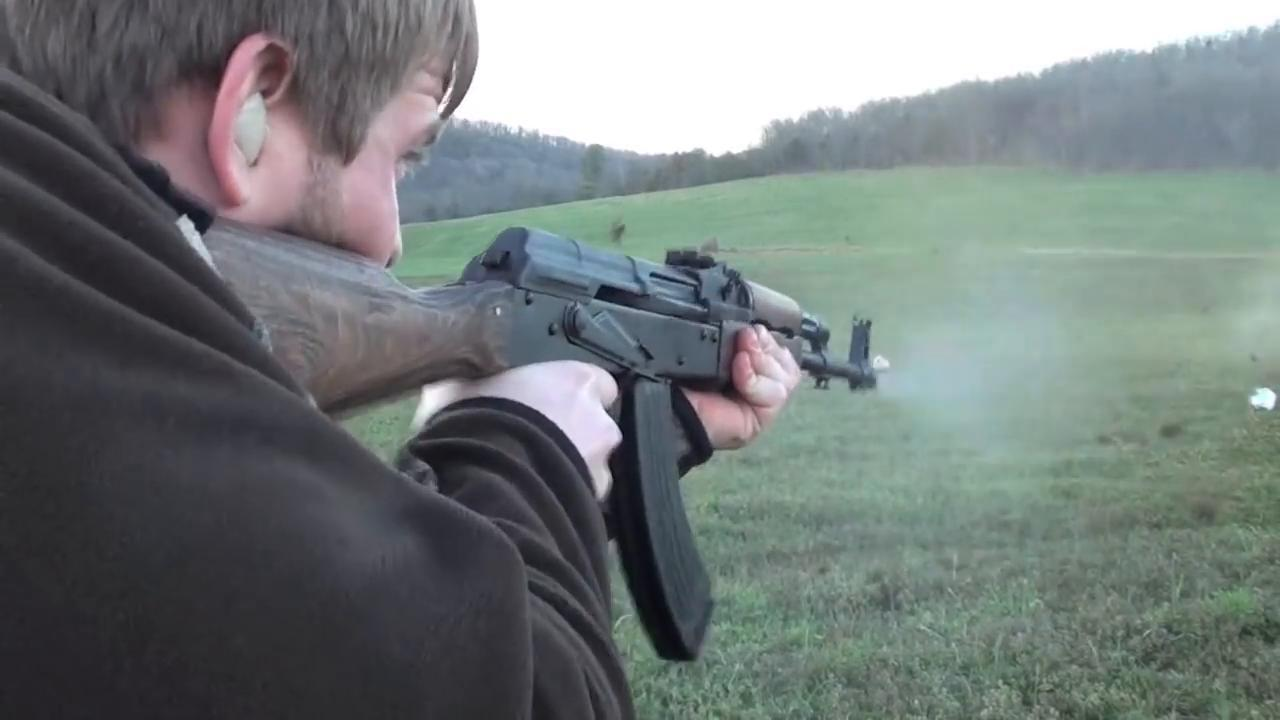AK47 Rifle: (199, 209, 883, 661)
